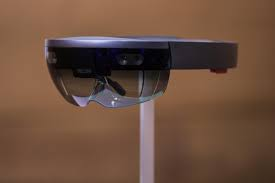hololens: (42, 37, 239, 115)
